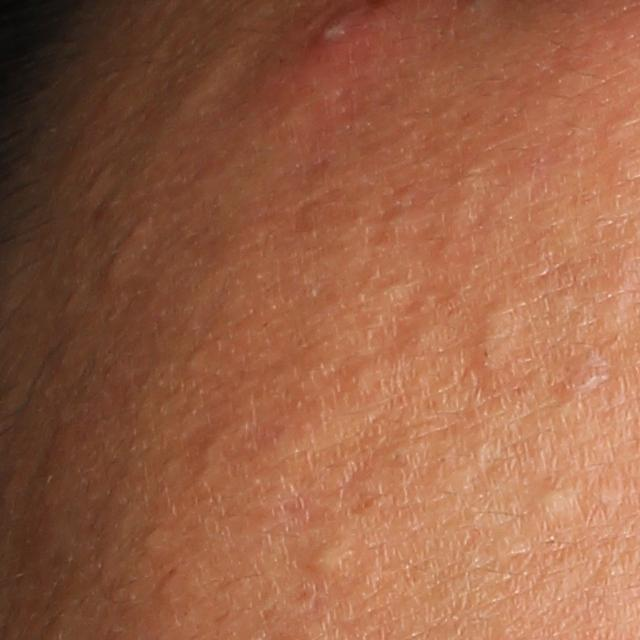comedo: (473, 299, 518, 380), (558, 357, 614, 400), (301, 544, 345, 584), (344, 358, 377, 404), (103, 251, 137, 282)
